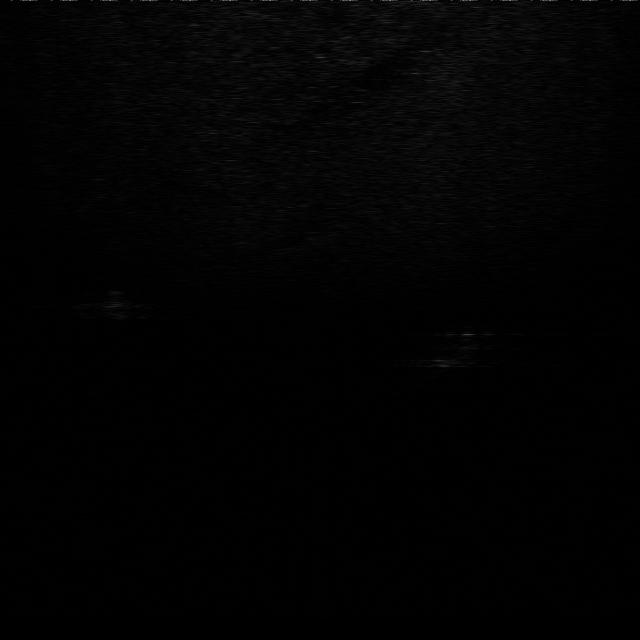circle cage: (75, 284, 166, 324)
tyre: (418, 328, 500, 373)
